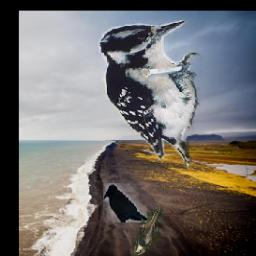Crow: (104, 184, 148, 223)
Cuckoo: (134, 207, 162, 255)
Woodpecker: (98, 20, 202, 168)
